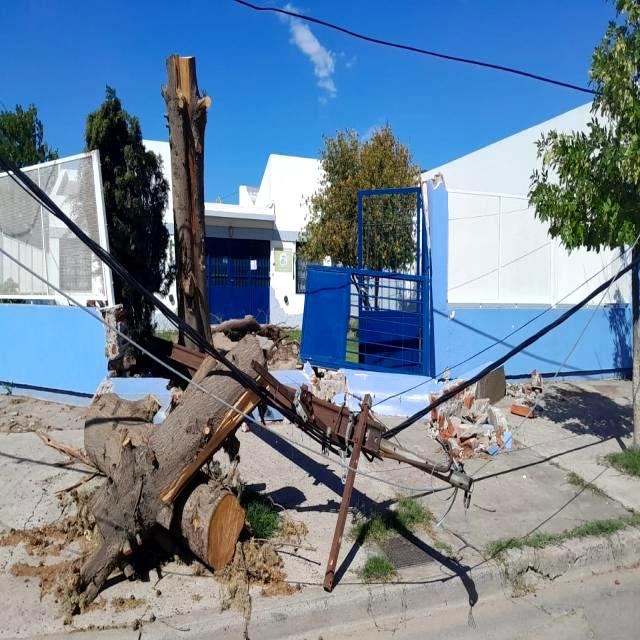Broken Pole: (70, 48, 472, 614)
